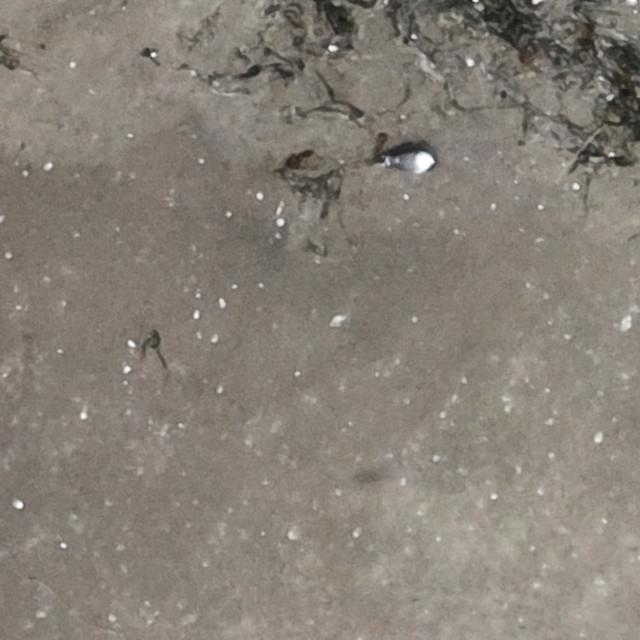umineko: (390, 153, 432, 172)
